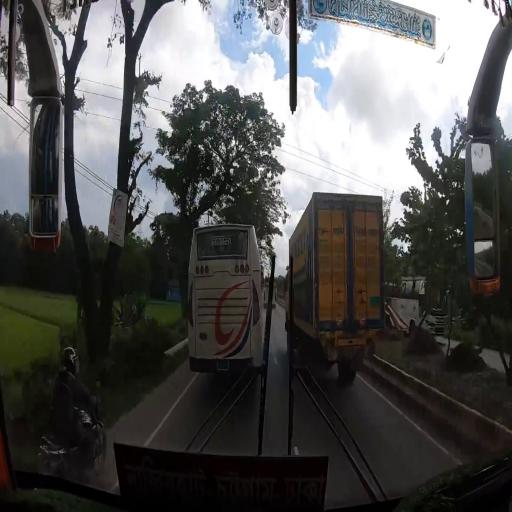bus: (188, 221, 263, 376), (388, 275, 451, 338)
motorbike: (35, 386, 115, 479)
truck: (284, 189, 387, 385)
